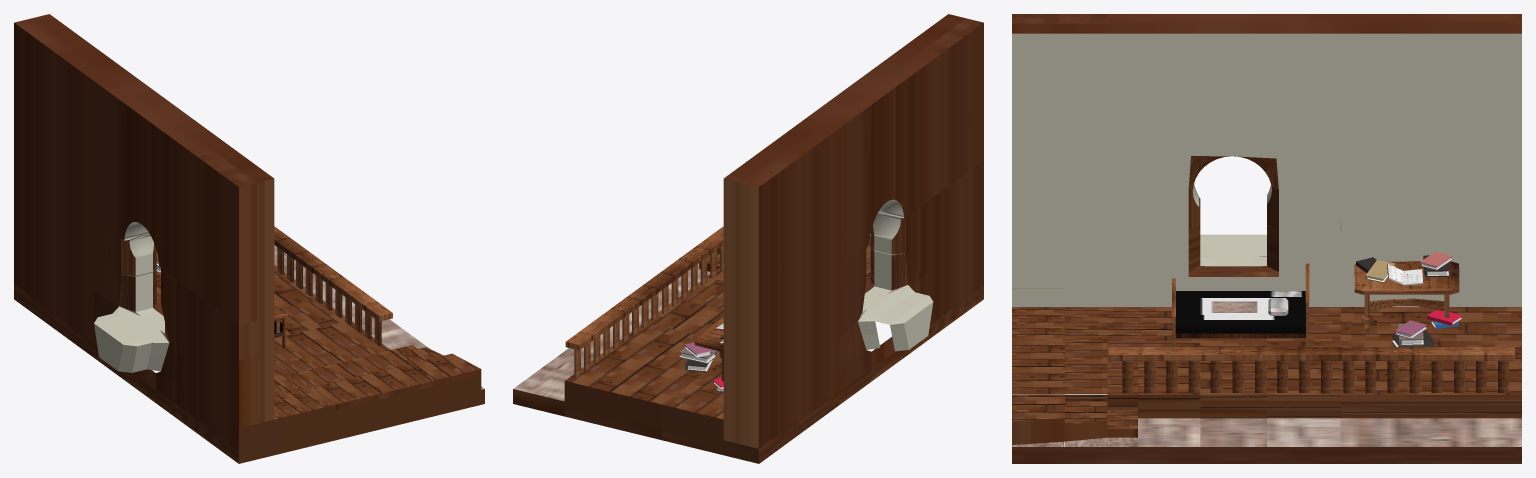
The model's file is 初始房间.blend002.fbx.
3 renders of one model, left to right at view 1: azimuth 30°, elevation 25°; view 2: azimuth 150°, elevation 25°; view 3: azimuth 270°, elevation 25°, orthographic. The views are drawn at different scales.
Parts seen in each view (by area): view 1: Cube, Cube.010, Cube.007; view 2: Cube, Cube.010, Cube.009, Cube.007, 立方体.012; view 3: Cube, Cube.010, Plane.001, Cube.007, Cube.009, 立方体.012, 立方体.013, Plane.002, 立方体.009.
Part boxes in pixels (x1=…): Cube: x1=14, y1=14, x2=484, y2=463; Cube.010: x1=274, y1=226, x2=392, y2=321; Cube.007: x1=296, y1=261, x2=381, y2=346; Cube: x1=513, y1=14, x2=983, y2=463; Cube.010: x1=565, y1=226, x2=723, y2=350; Cube.009: x1=574, y1=293, x2=658, y2=377; Cube.007: x1=662, y1=245, x2=723, y2=313; 立方体.012: x1=694, y1=317, x2=723, y2=352; Cube: x1=1012, y1=14, x2=1521, y2=463; Cube.010: x1=1108, y1=347, x2=1514, y2=360; Plane.001: x1=1175, y1=291, x2=1305, y2=333; Cube.007: x1=1122, y1=361, x2=1310, y2=393; Cube.009: x1=1321, y1=361, x2=1508, y2=393; 立方体.012: x1=1354, y1=261, x2=1459, y2=294; 立方体.013: x1=1352, y1=294, x2=1444, y2=331; Plane.002: x1=1175, y1=333, x2=1305, y2=338; 立方体.009: x1=1387, y1=264, x2=1423, y2=285.
Bounding box in the file's own units: 318 × 302 × 445.
27 materials, 27 textured.
